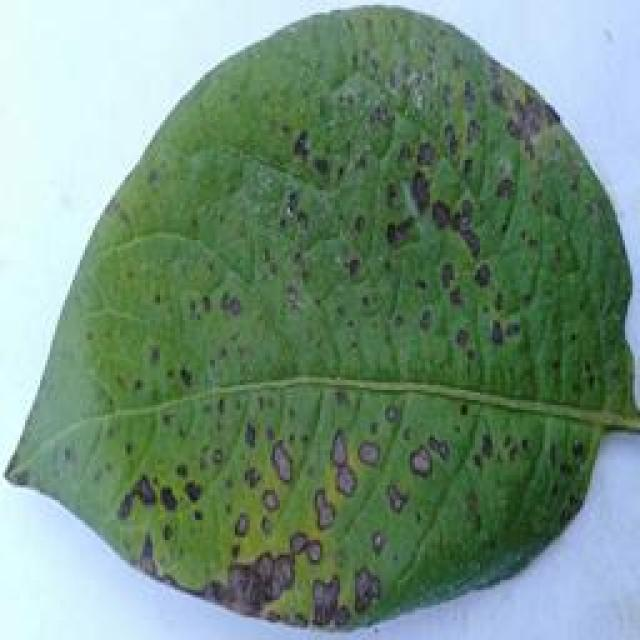Potato_Early_Blight: (2, 5, 632, 632)
